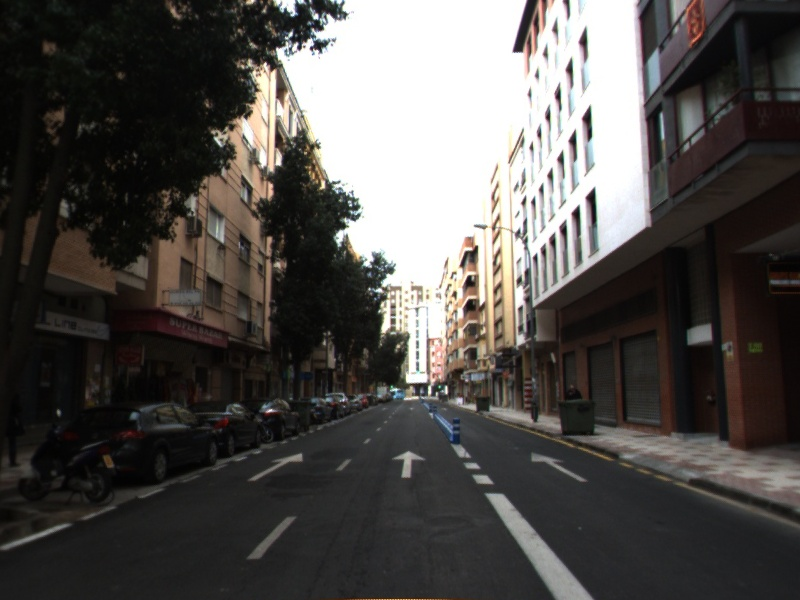STRAIGHT: (529, 450, 591, 484), (245, 451, 305, 483), (390, 449, 428, 480)
